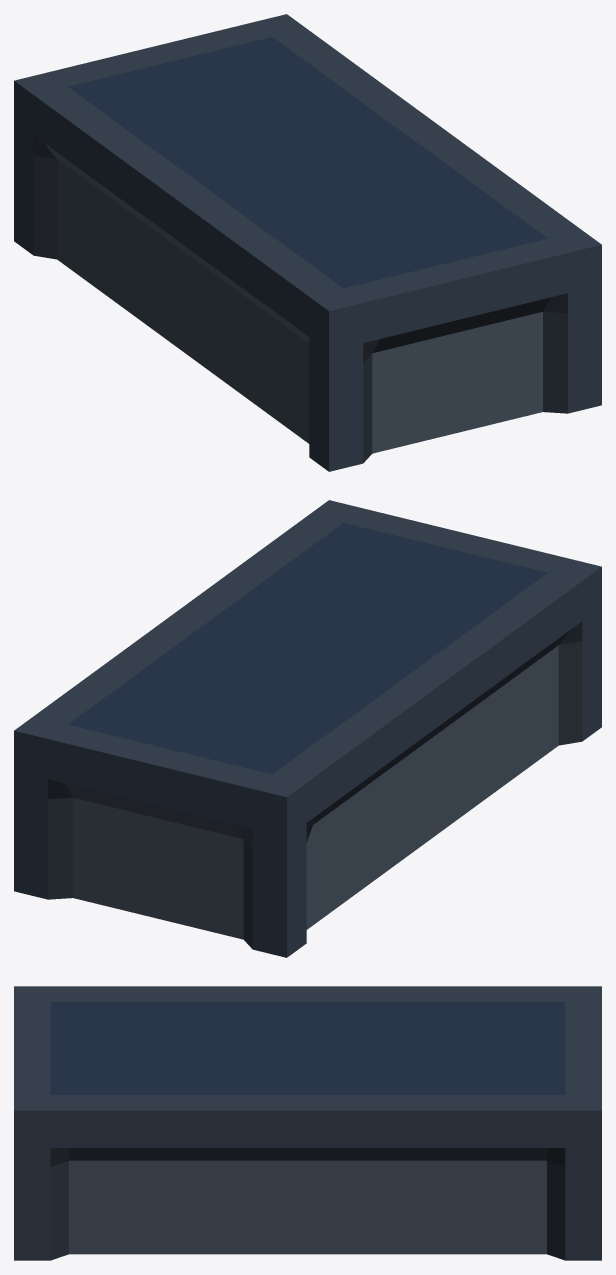
File: LabTable.fbx
3 renders of one model, top to bottom at view 1: azimuth 30°, elevation 25°; view 2: azimuth 150°, elevation 25°; view 3: azimuth 270°, elevation 25°, orthographic. The views are drawn at different scales.
Parts seen in each view (by area): view 1: LabTable; view 2: LabTable; view 3: LabTable.
Part boxes in pixels (x1,y1,x2,y2): LabTable: (14, 14, 601, 471); LabTable: (14, 500, 601, 957); LabTable: (14, 986, 601, 1260).
Size of the model in its own units: 200 by 113 by 400.
